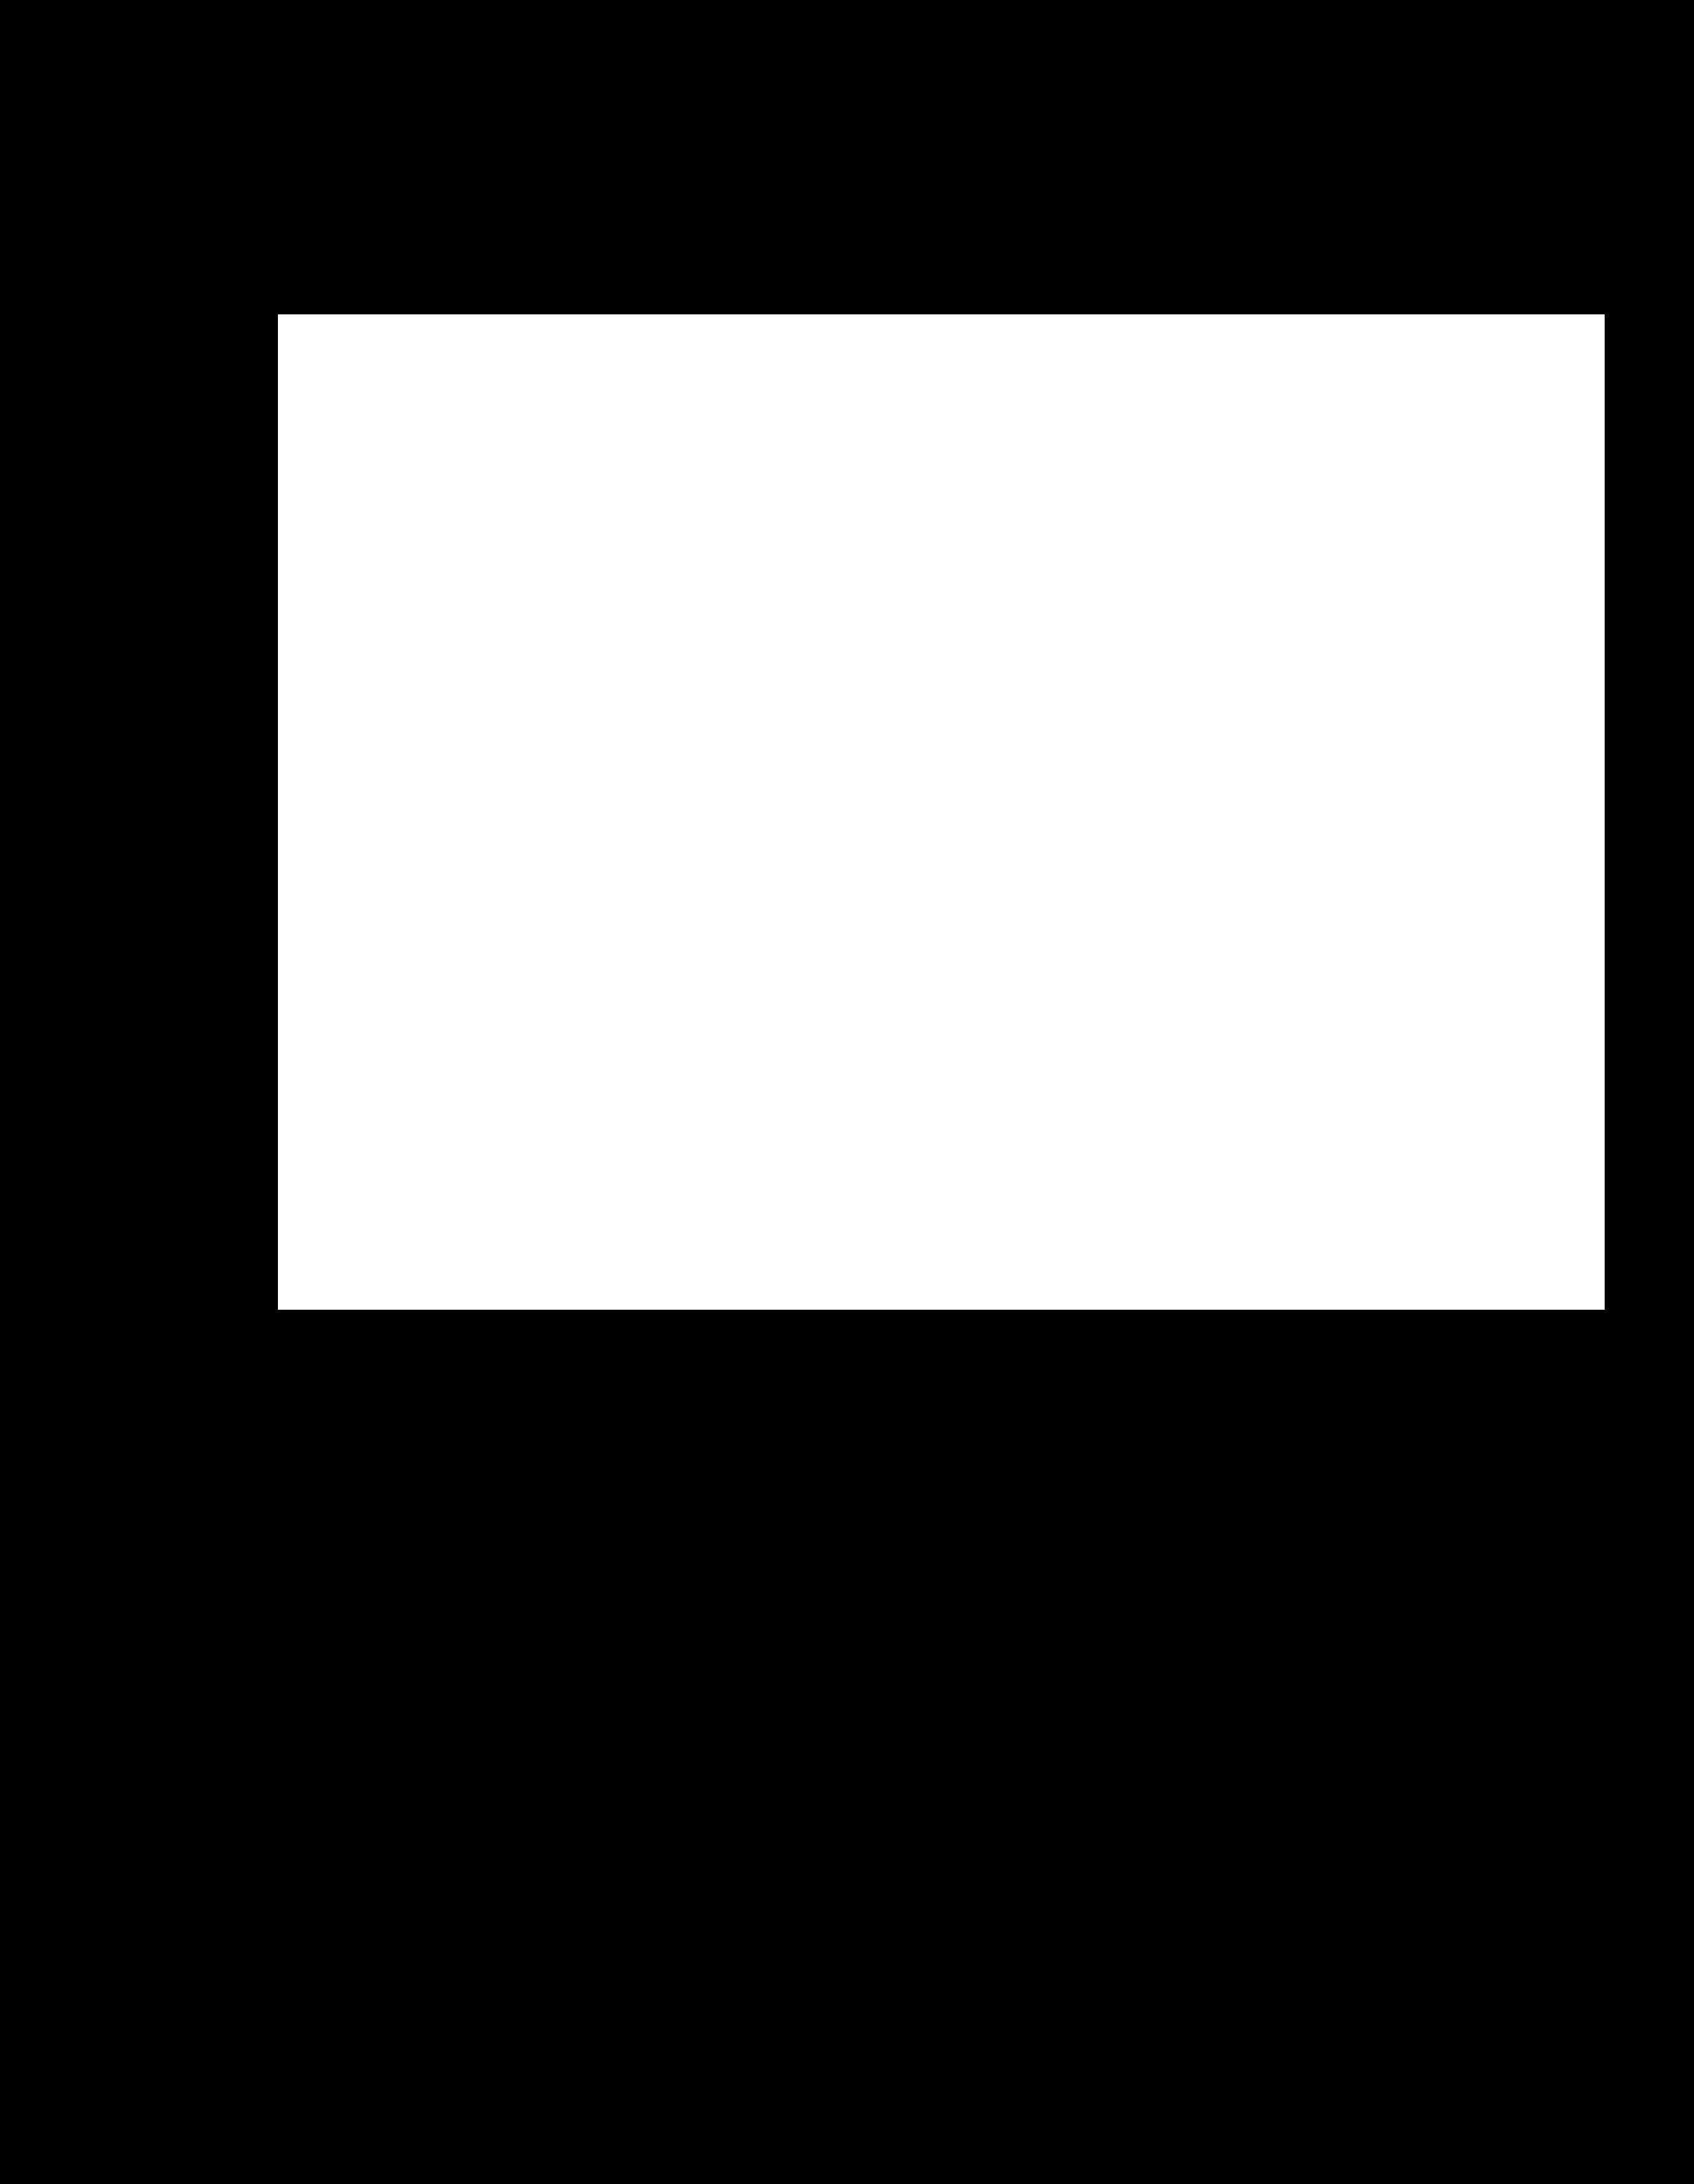table: (278, 314, 1604, 1308)
